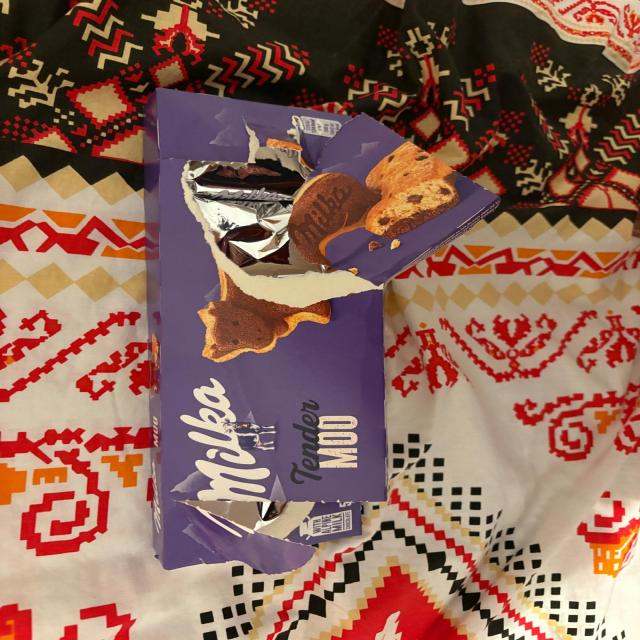damaged_package: (146, 88, 500, 572)
